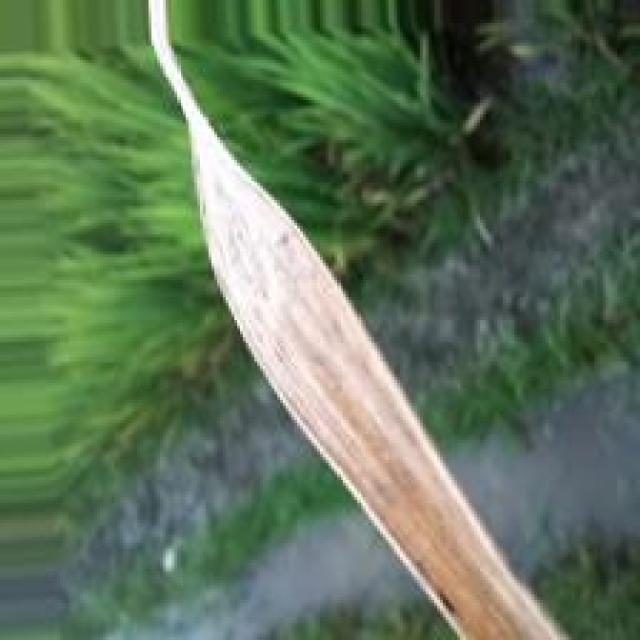Leaf_Scald: (147, 0, 584, 640)
